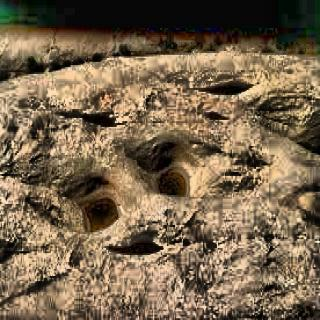pothole: (39, 169, 118, 242), (131, 133, 196, 203), (196, 69, 255, 101), (105, 232, 166, 262), (72, 106, 126, 131), (201, 108, 228, 124)
